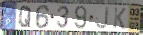3: (55, 4, 70, 30)
6: (35, 4, 50, 30)
9: (73, 5, 88, 30)
J: (95, 6, 110, 31)
K: (113, 6, 127, 30)
Q: (18, 5, 33, 28)
